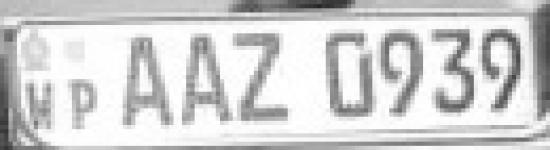0: (321, 24, 376, 122)
3: (430, 22, 477, 121)
9: (376, 25, 430, 120), (479, 22, 525, 118)
A: (115, 31, 175, 132), (177, 28, 235, 130)
P: (64, 76, 107, 138)
W: (25, 78, 59, 136)
Z: (232, 26, 296, 127)
